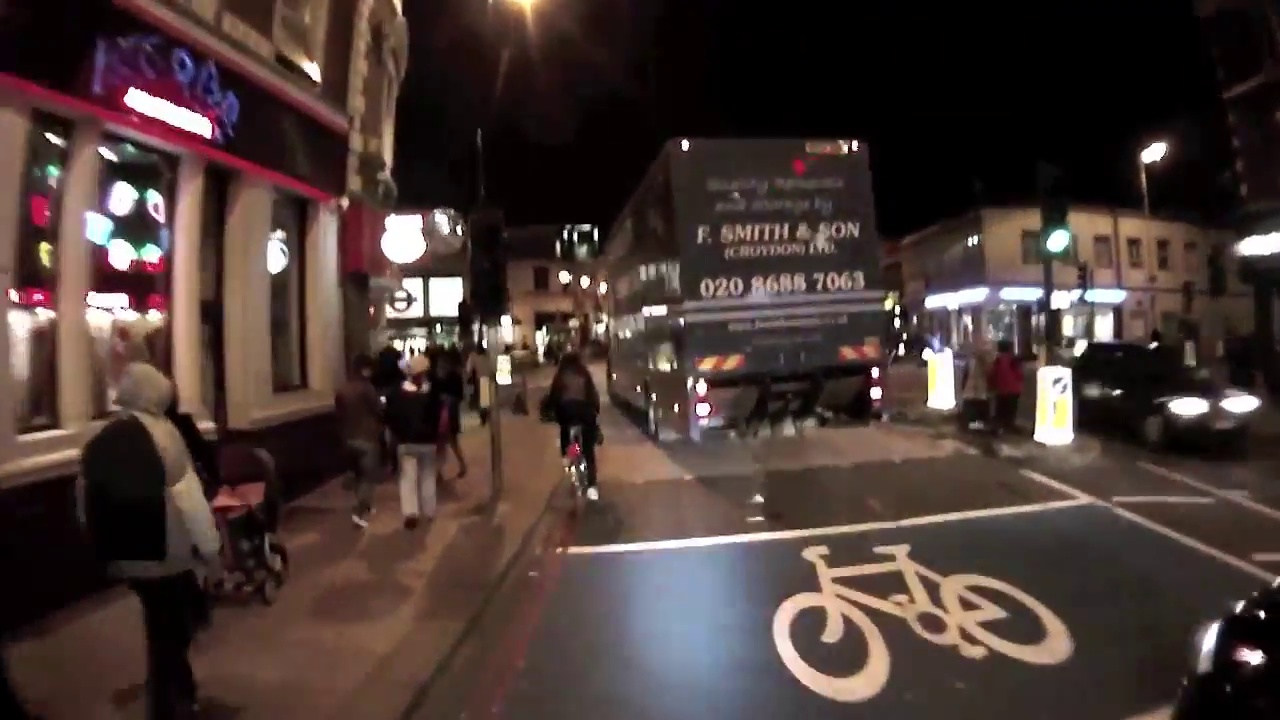cyclist_back: (543, 344, 620, 531)
